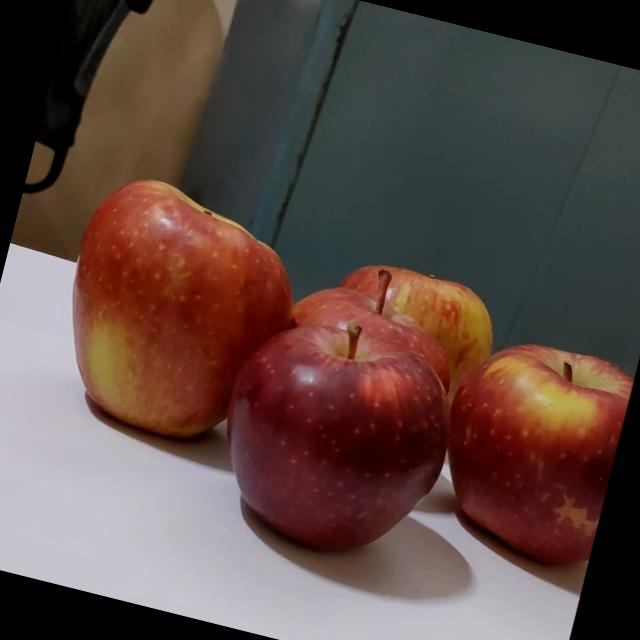apple: (39, 175, 298, 454), (200, 305, 458, 570), (415, 320, 639, 564), (250, 247, 463, 489), (274, 249, 466, 458)
